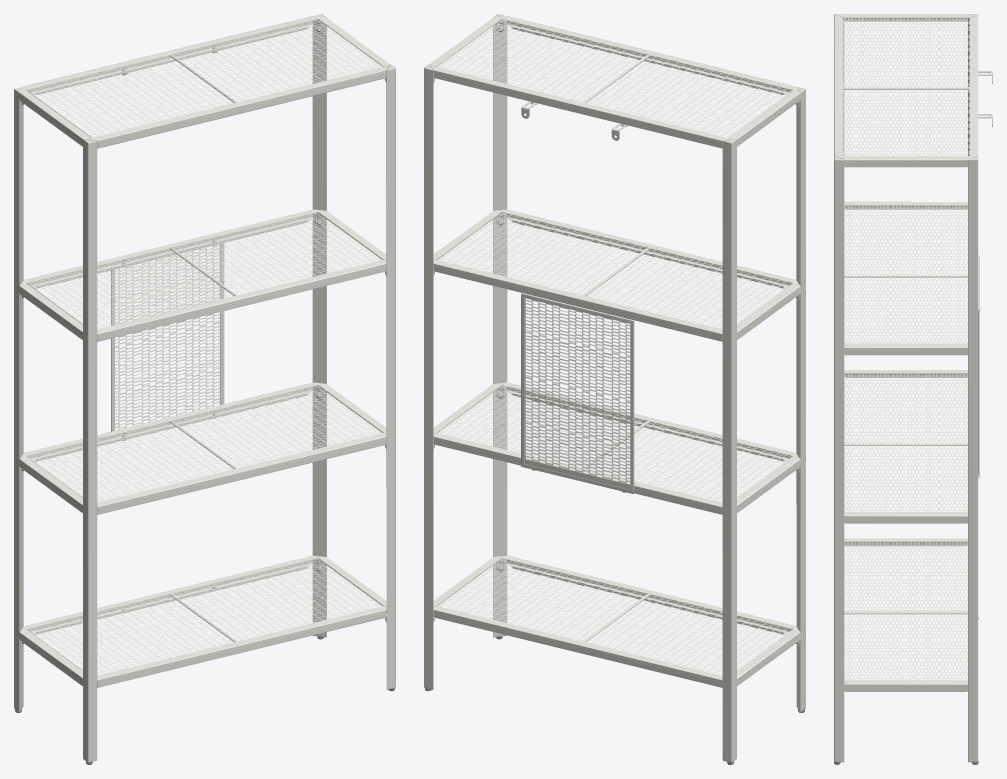
The model's file is baggebo_shelf_unit_metal_white.glb.
The picture shows the model from 3 angles, left to right: view 1: azimuth 30°, elevation 25°; view 2: azimuth 150°, elevation 25°; view 3: azimuth 270°, elevation 25°; orthographic projection. The views are drawn at different scales.
Parts seen in each view (by area): view 1: Mesh_1, Mesh_0; view 2: Mesh_1, Mesh_0; view 3: Mesh_0, Mesh_1.
Part boxes in pixels (<box>): Mesh_1: <box>14,14,395,764</box>; Mesh_0: <box>27,19,382,675</box>; Mesh_1: <box>424,14,805,764</box>; Mesh_0: <box>438,19,792,675</box>; Mesh_0: <box>843,17,969,679</box>; Mesh_1: <box>834,14,992,764</box>.
Size of the model in its own units: 0.6007 by 1.16 by 0.276.
2 materials, 2 textured.
